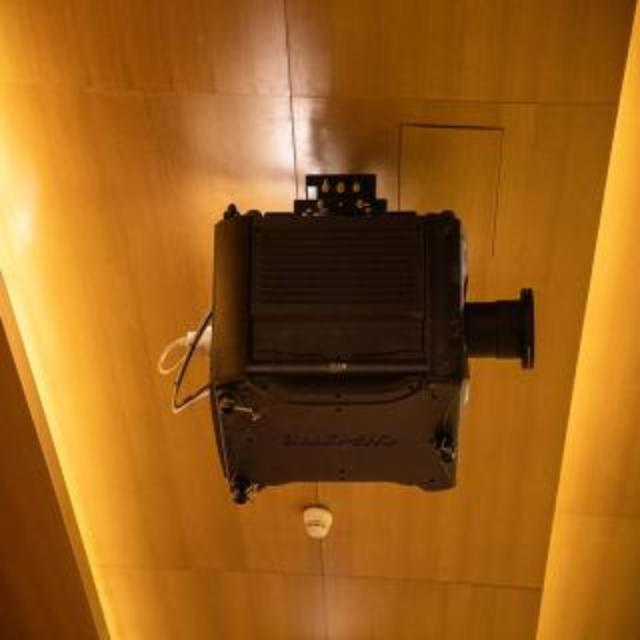Projector: (160, 172, 536, 504)
